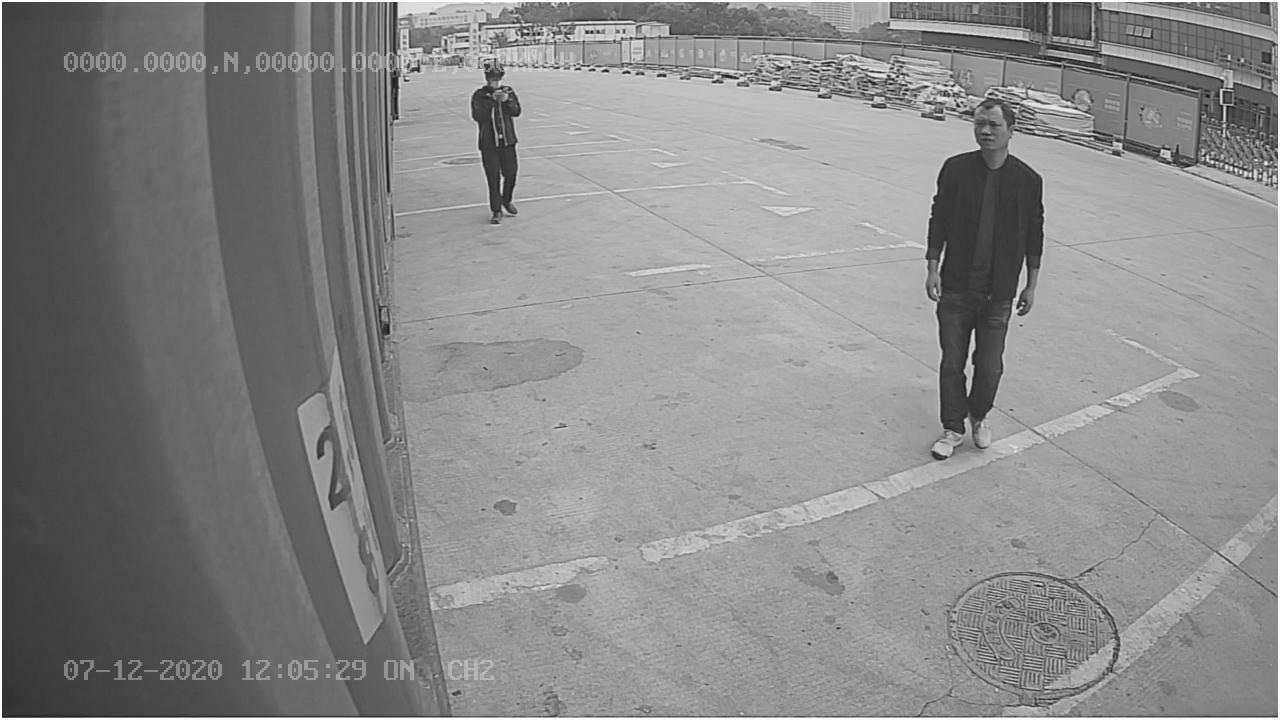person: (910, 95, 1053, 466)
